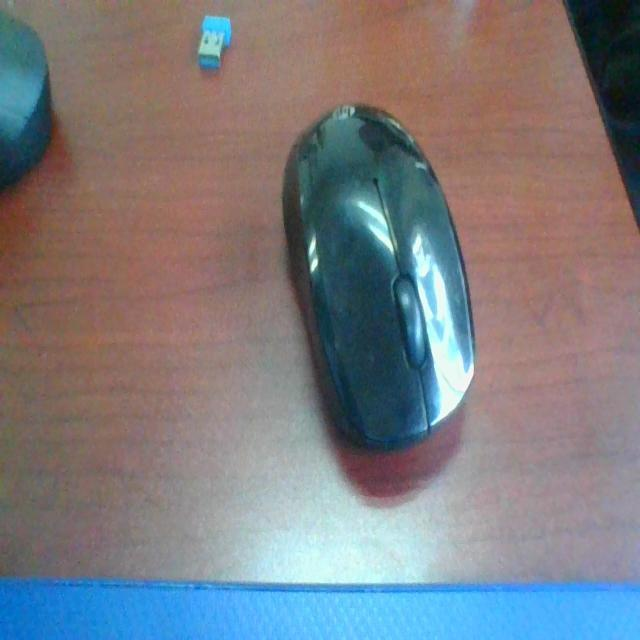mouse: (274, 91, 490, 512)
